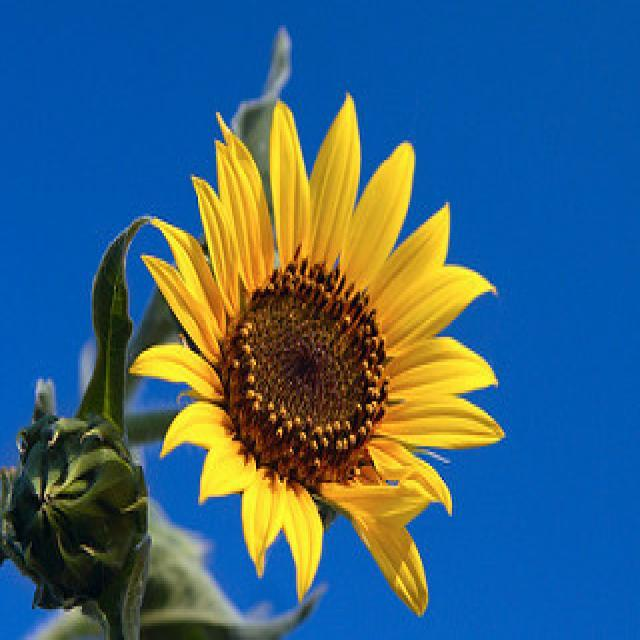sunflower: (128, 95, 502, 613)
